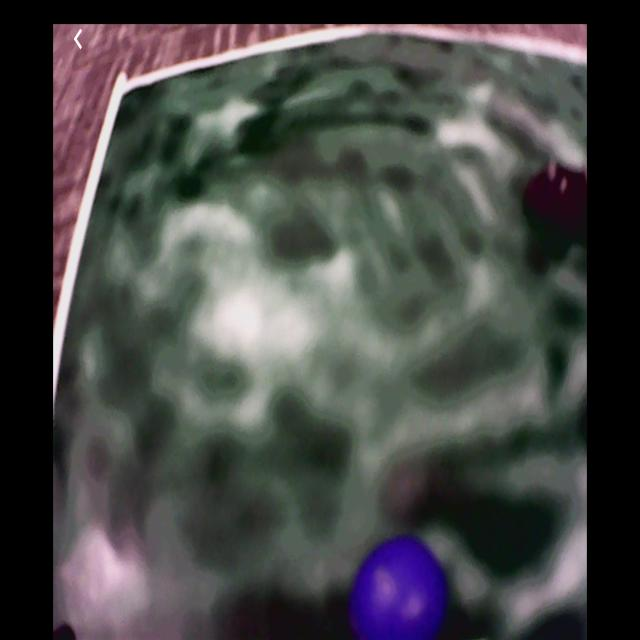ball: (353, 537, 450, 640)
